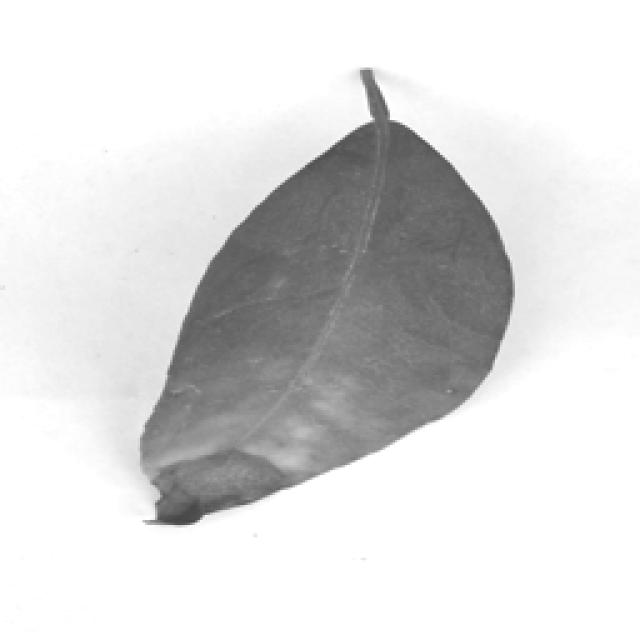canker: (122, 110, 529, 526)
